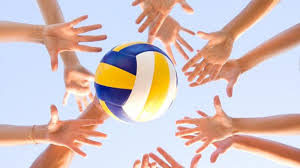ball: (94, 40, 180, 124)
